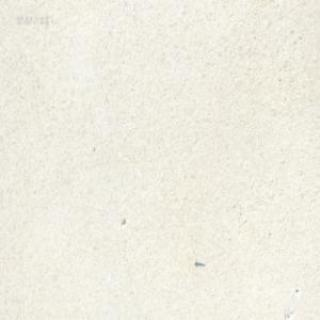Nailtrack_idkeyframe: (194, 258, 204, 266)
